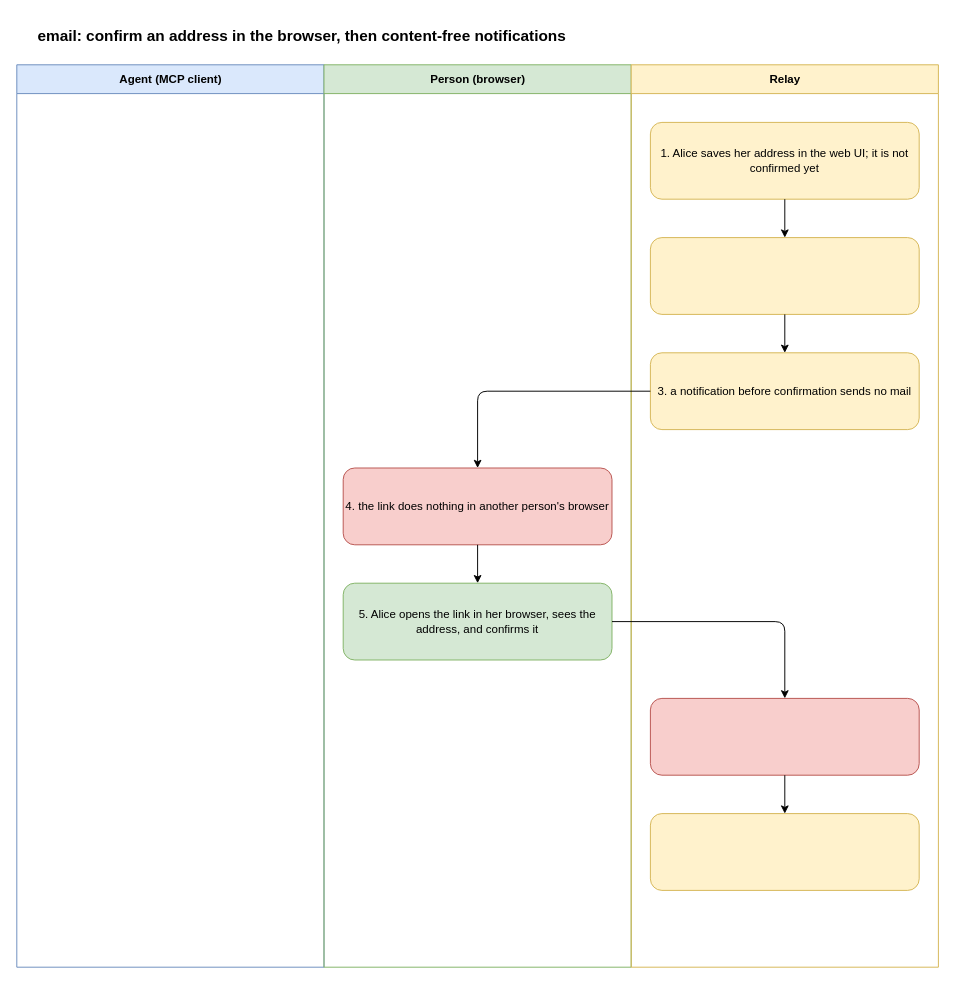
Image size: 955x984. Some labels were removed from this diagram. The centre of each missing label's shape, as x and y in pixels:
2. one confirmation mail goes to that address: a fixed sentence and the link: point (784, 275)
6. the next notification arrives by mail and carries no content: point (784, 736)
7. Alice turns email notifications off; nothing more is mailed: point (784, 851)
